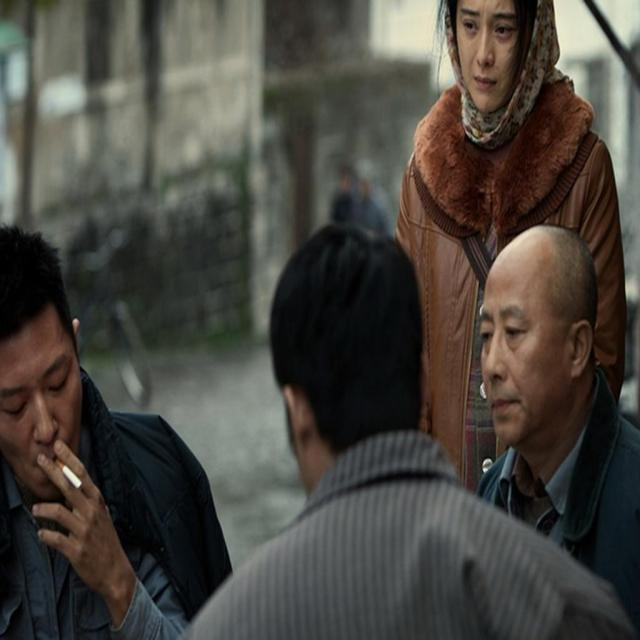smoking: (36, 456, 118, 500)
